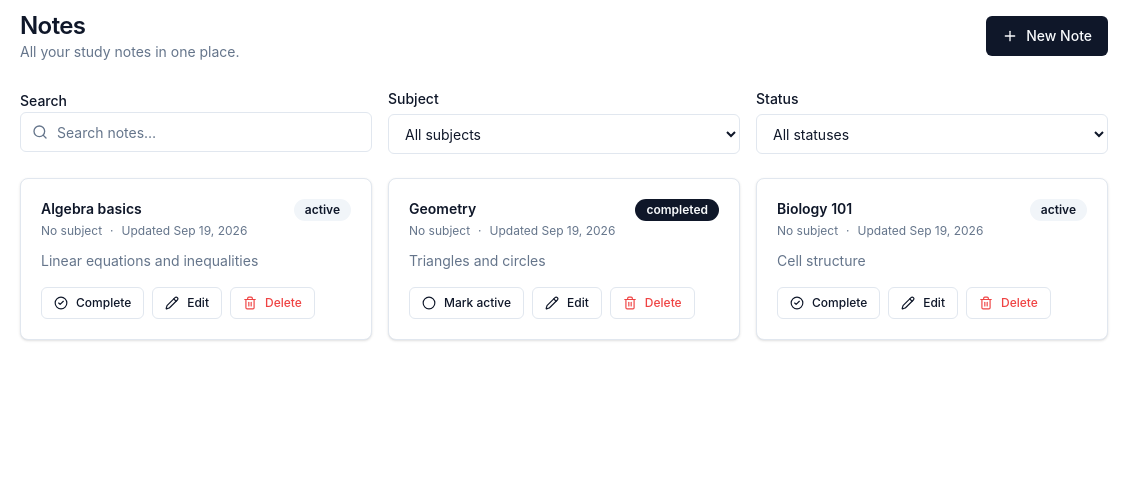
it: Search and filters › shows empty state when no results match filters
Type "nonexistent" into the search field with placeholder "Search notes…" at (196, 132), box [20,112,372,152]
Wait 300 ms
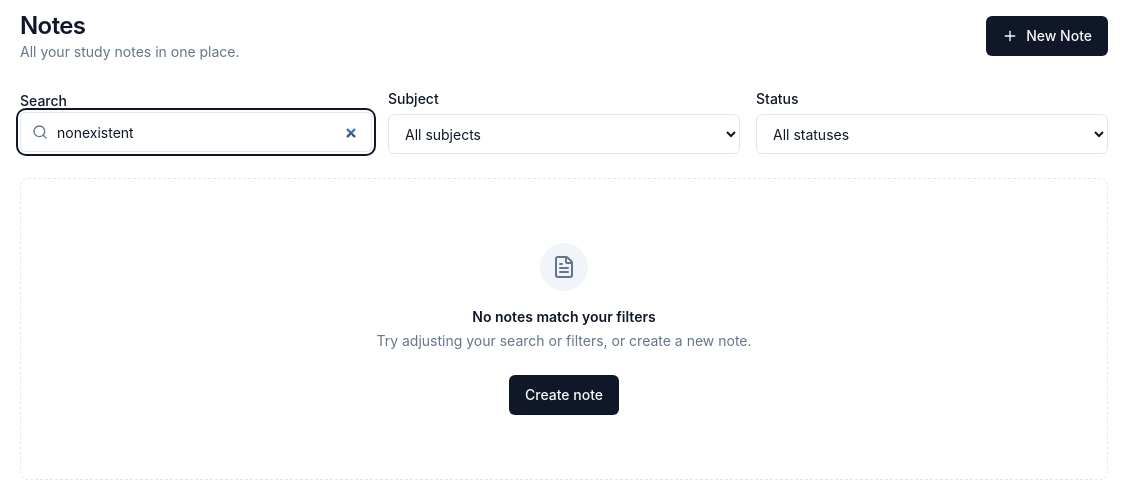
Check: the heading "No notes match your filters" is shown, box [472,307,656,327]
